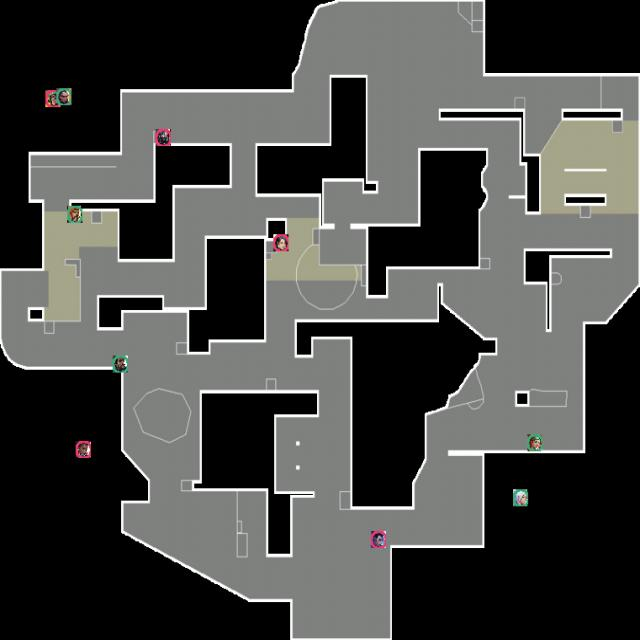atk_astra: (76, 441, 91, 458)
atk_killjoy: (46, 90, 60, 107)
atk_sage: (274, 234, 288, 251)
atk_viper: (156, 129, 170, 146)
atk_yoru: (371, 531, 386, 548)
def_brimstone: (68, 206, 82, 223)
def_harbor: (113, 356, 128, 372)
def_jett: (513, 489, 528, 506)
def_reyna: (56, 88, 72, 105)
def_skye: (528, 434, 542, 452)
